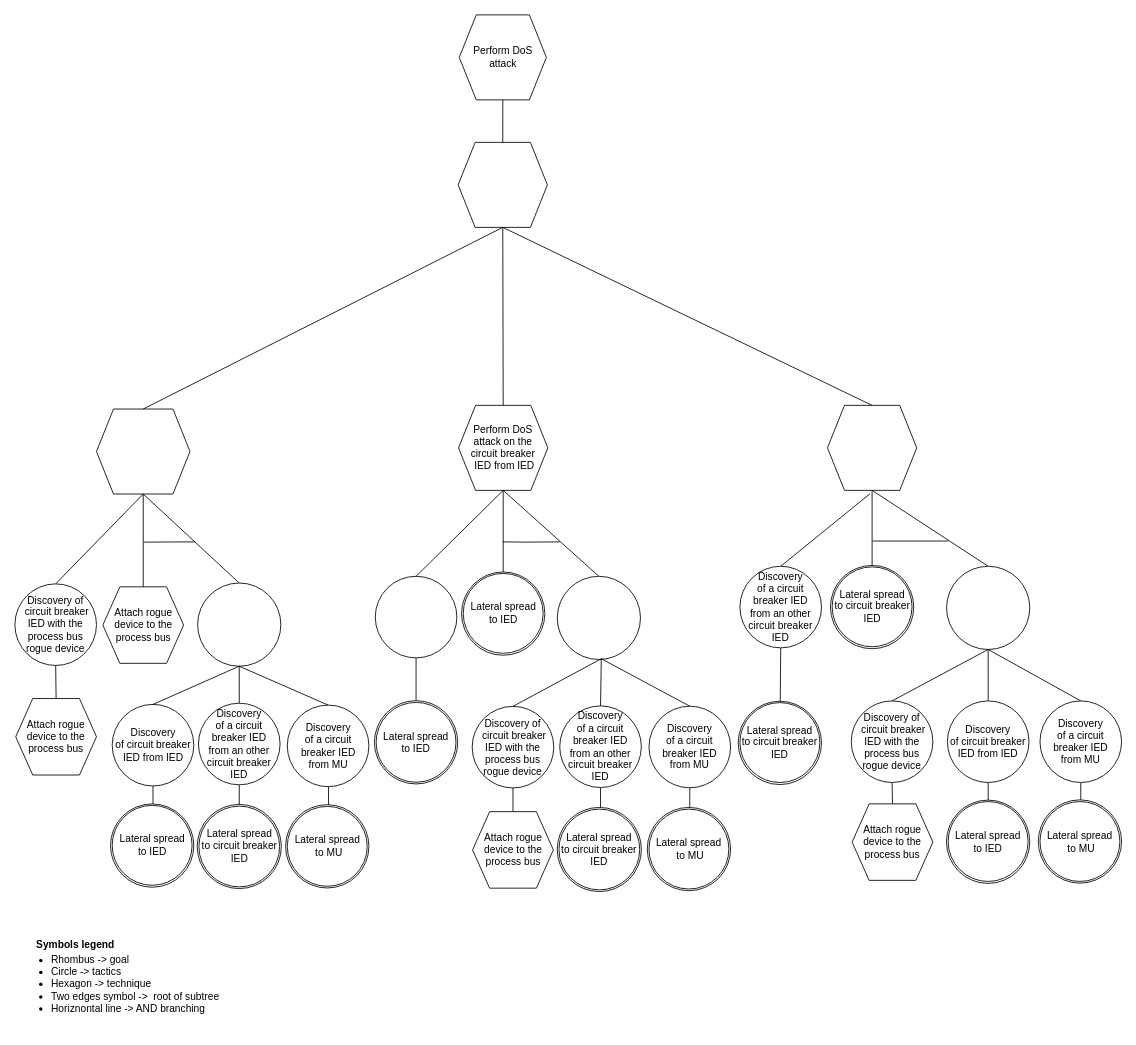
The diagram is 1136 pixels wide and 1045 high, and some of its shapes have lost their labels. Each missing label, with the box of its shape:
Discovery of a circuit breaker IED from IED: (374, 575, 457, 658)
Discovery of a circuit breaker IED not from circuit breaker IED: (946, 565, 1030, 649)
Discovery of a circuit breaker IED not from IED: (556, 575, 640, 660)
Discovery of a circuit breaker IED without rogue device: (197, 582, 281, 666)
Perform DoS attack on circuit breaker IED: (457, 142, 547, 227)
Perform DoS attack on the circuit breaker IED from circuit breaker IED: (827, 405, 917, 490)
Perform DoS attack on the circuit breaker IED with the process bus rogue device: (96, 408, 190, 494)
